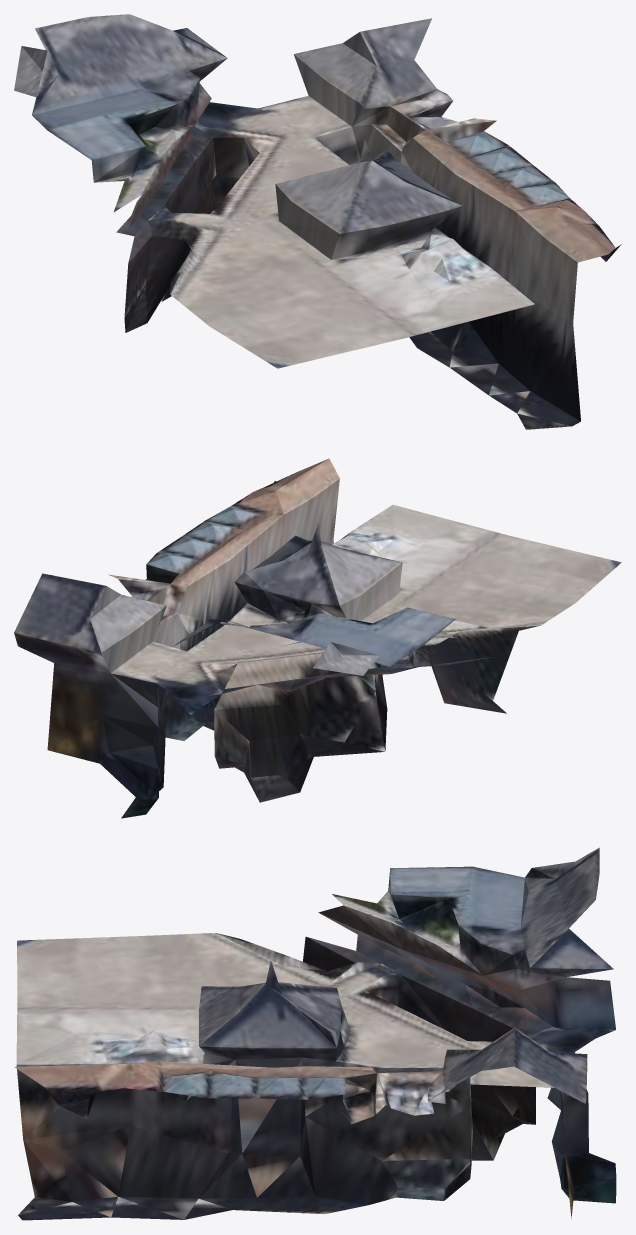
The model's file is Tile_+000_+002_L17_00.glb.
3 renders of one model, top to bottom at view 1: azimuth 30°, elevation 25°; view 2: azimuth 150°, elevation 25°; view 3: azimuth 270°, elevation 25°, orthographic. The views are drawn at different scales.
Bounding box in the file's own units: 48.38 × 28.01 × 60.78.
1 material, 1 textured.
